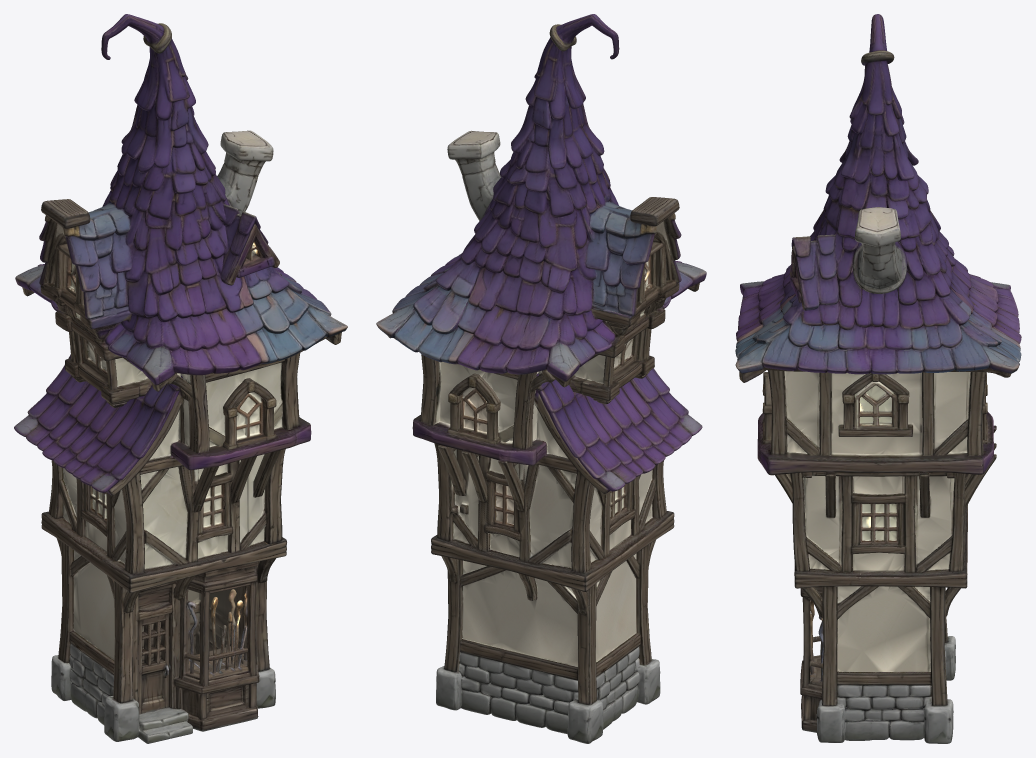
File: SilverWandShop_300k.glb
3 renders of one model, left to right at view 1: azimuth 30°, elevation 25°; view 2: azimuth 150°, elevation 25°; view 3: azimuth 270°, elevation 25°, orthographic. The views are drawn at different scales.
Parts seen in each view (by area): view 1: Mesh_0; view 2: Mesh_0; view 3: Mesh_0.
Part boxes in pixels (box(x1,y1,x2,y2)): Mesh_0: box(14, 14, 347, 743); Mesh_0: box(376, 14, 706, 743); Mesh_0: box(735, 14, 1021, 743).
Bounding box in the file's own units: 0.6571 × 1.9 × 0.7324.
Materials: 1 (1 with a texture image).
